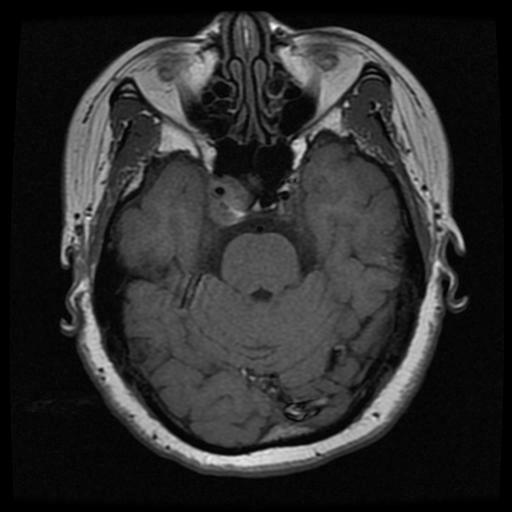Tumour-Pituitary: (215, 233, 324, 307)
